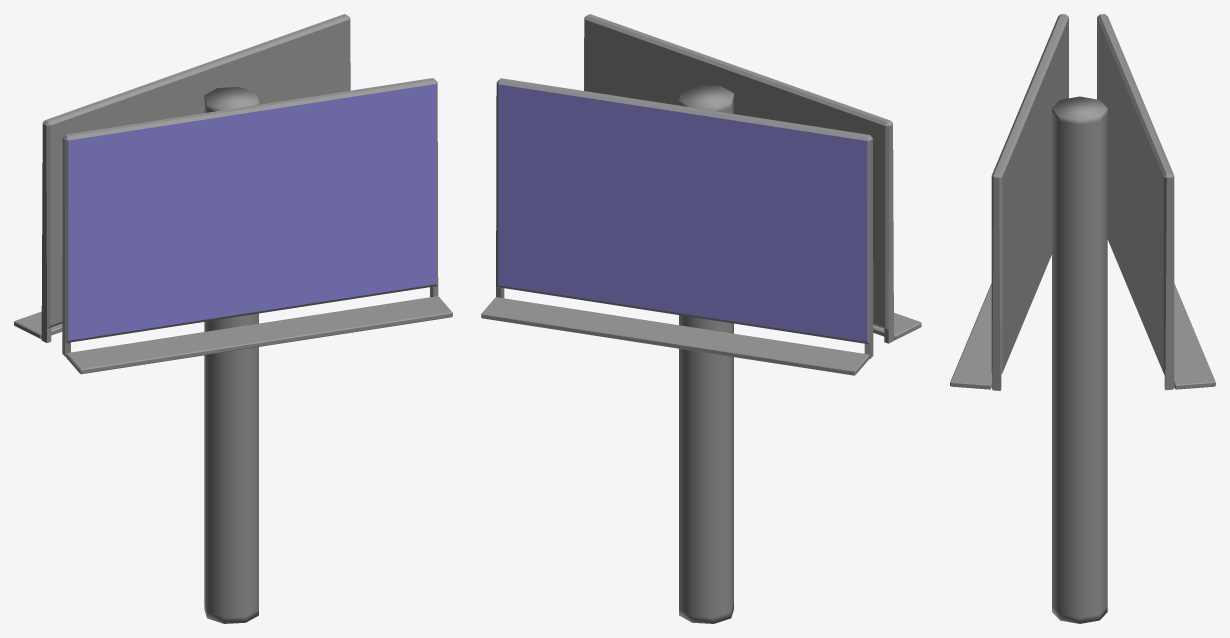
The model's file is bilboard2.fbx.
3 views of the same model, side by side, from view 1: azimuth 30°, elevation 25°; view 2: azimuth 150°, elevation 25°; view 3: azimuth 270°, elevation 25° (orthographic). The views are drawn at different scales.
Visible parts, largest first — view 1: Plane, Plane.001, Cylinder; view 2: Plane.001, Plane, Cylinder; view 3: Cylinder, Plane.001, Plane.
Part boxes in pixels (box(x1,y1,x2,y2)): Plane: box(62, 78, 452, 374); Plane.001: box(14, 14, 350, 342); Cylinder: box(204, 87, 258, 623); Plane.001: box(481, 78, 873, 375); Plane: box(584, 14, 921, 343); Cylinder: box(679, 85, 733, 623); Cylinder: box(1052, 96, 1107, 623); Plane.001: box(1097, 14, 1215, 390); Plane: box(950, 14, 1068, 390).
Size of the model in its own units: 705 by 1022 by 478.
